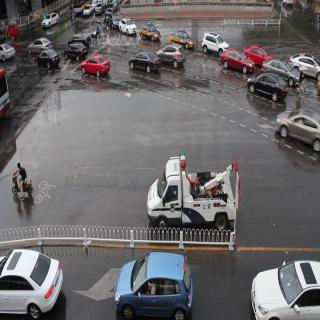Car: (144, 155, 245, 236), (110, 242, 194, 320), (0, 239, 63, 314), (257, 255, 320, 320), (275, 101, 320, 162), (247, 64, 289, 105), (244, 35, 277, 71), (221, 44, 254, 79), (156, 40, 190, 72), (265, 57, 300, 87), (291, 48, 320, 84), (131, 49, 161, 81), (80, 52, 113, 80), (202, 29, 231, 58), (172, 23, 198, 47), (64, 38, 90, 62), (36, 47, 58, 73), (139, 16, 159, 44), (28, 30, 50, 55), (0, 38, 17, 66), (119, 12, 137, 38), (42, 5, 61, 28), (108, 10, 120, 28)
